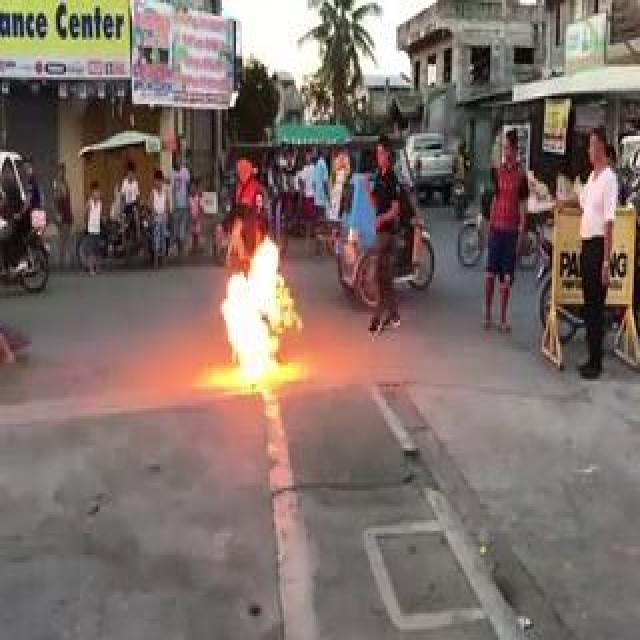Fire: (219, 248, 291, 381)
